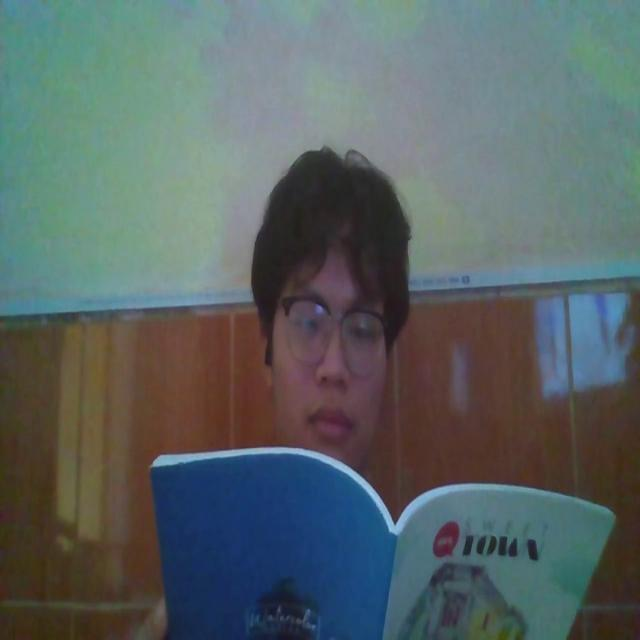book: (144, 439, 616, 640)
student: (236, 137, 416, 466)
